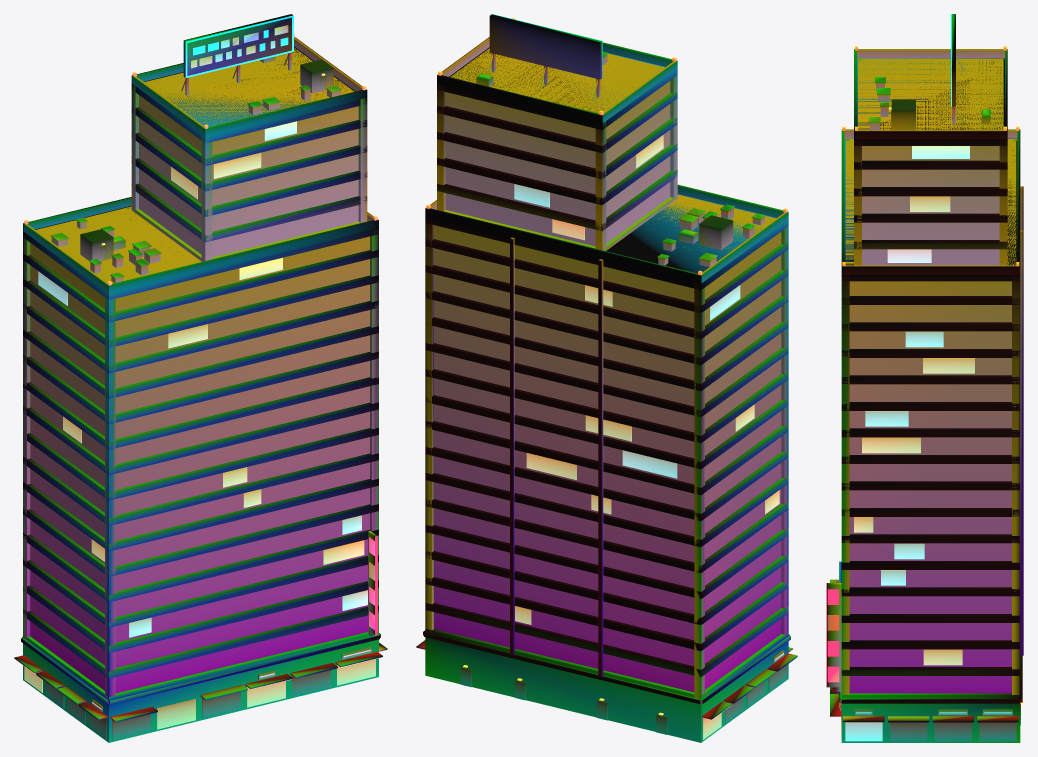
The model's file is Tower_Slab.fbx.
3 renders of one model, left to right at view 1: azimuth 30°, elevation 25°; view 2: azimuth 150°, elevation 25°; view 3: azimuth 270°, elevation 25°, orthographic. The views are drawn at different scales.
Visible parts, largest first — view 1: Tower_Slab_LOD0; view 2: Tower_Slab_LOD0; view 3: Tower_Slab_LOD0.
Part boxes in pixels (box(x1,y1,x2,y2)): Tower_Slab_LOD0: box(14, 14, 387, 742); Tower_Slab_LOD0: box(416, 14, 797, 742); Tower_Slab_LOD0: box(826, 14, 1023, 742).
Size of what is drawn, in the model's own units: 42.8 by 89.32 by 24.31.
